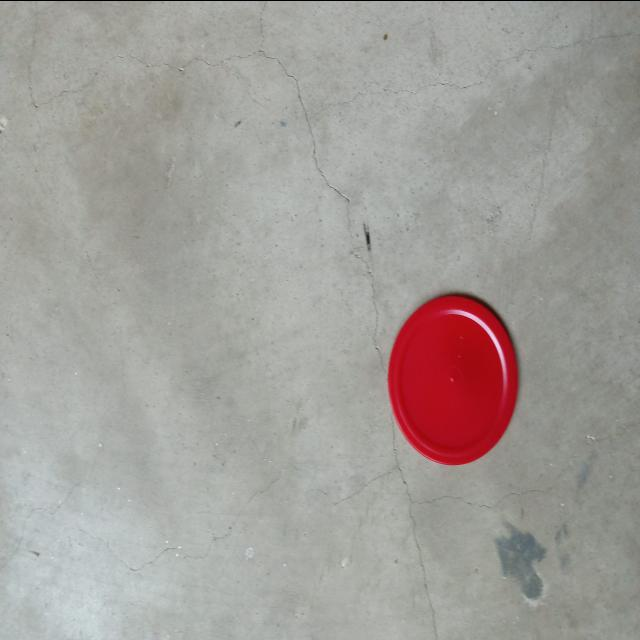chip: (382, 287, 522, 471)
